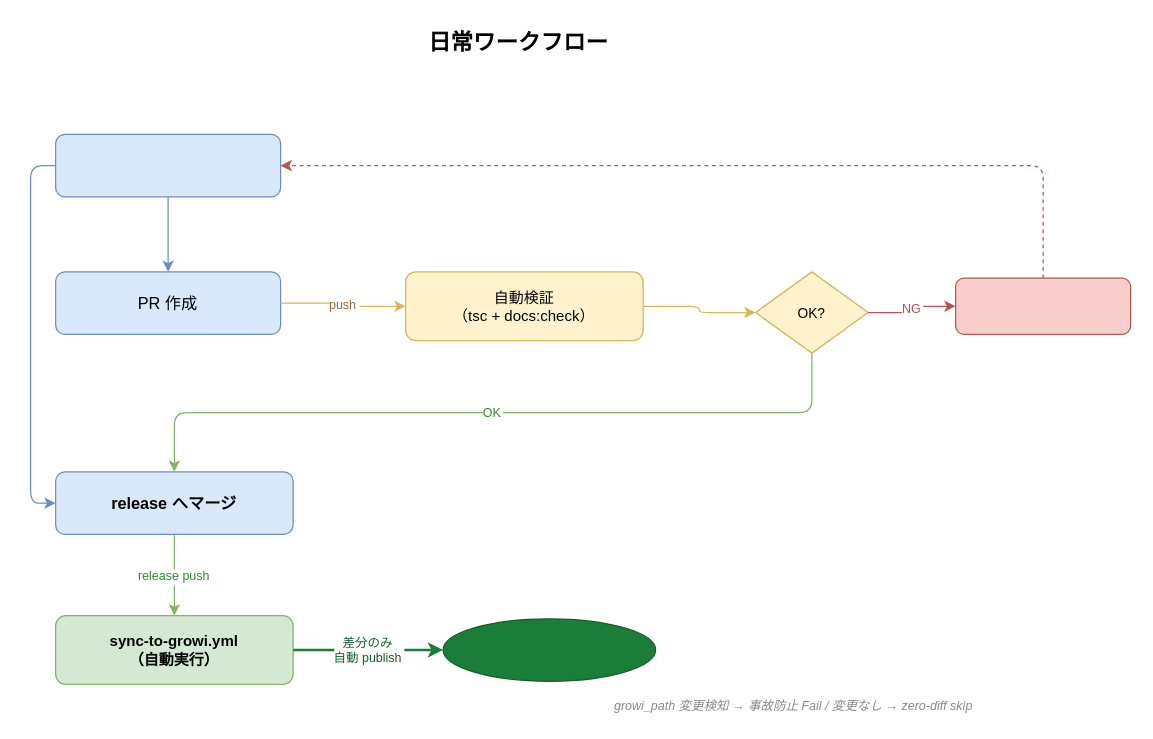
Some shapes in this 1153 by 739 pixel diagram are drawn without their labels. The centre of each missing label's shape, as x and y in pixels:
docs/ を編集: point (167, 165)
GROWI 更新完了: point (549, 649)
修正して再 push: point (1042, 305)
